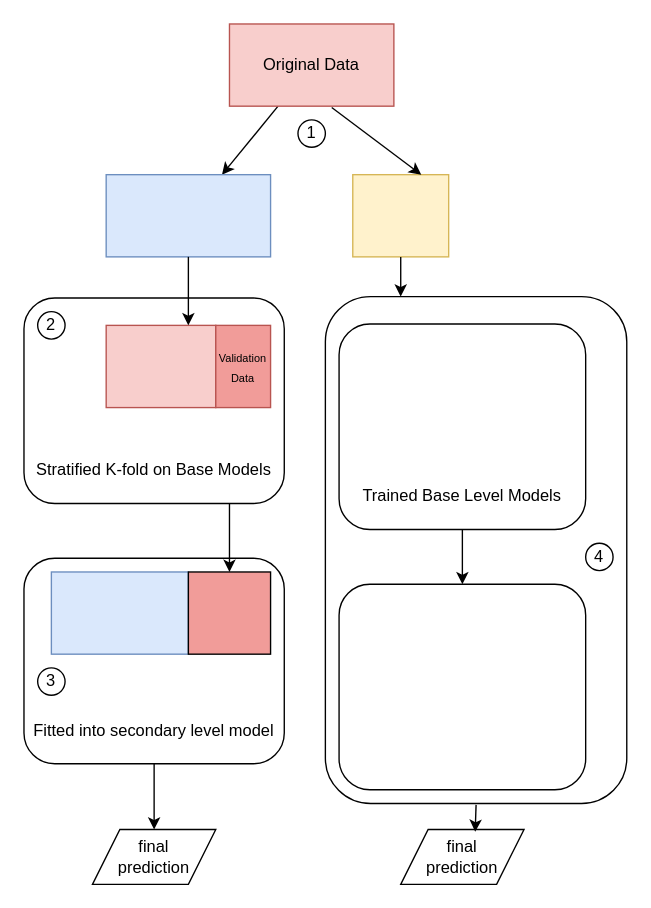
This 651x908 diagram has some shape labels left out. The shapes that lost their labels are listed below. From the top down, each one's box as (x1, y1, x2, y2) in pixels, then its label:
(105, 173, 271, 257): Train Data 75%
(351, 173, 449, 257): Test Data 25%
(105, 324, 216, 408): Train Data
(50, 571, 188, 654): Original data variables from training set
(187, 571, 271, 654): Prediction result
(338, 583, 586, 790): Trained Secondary Level Model
